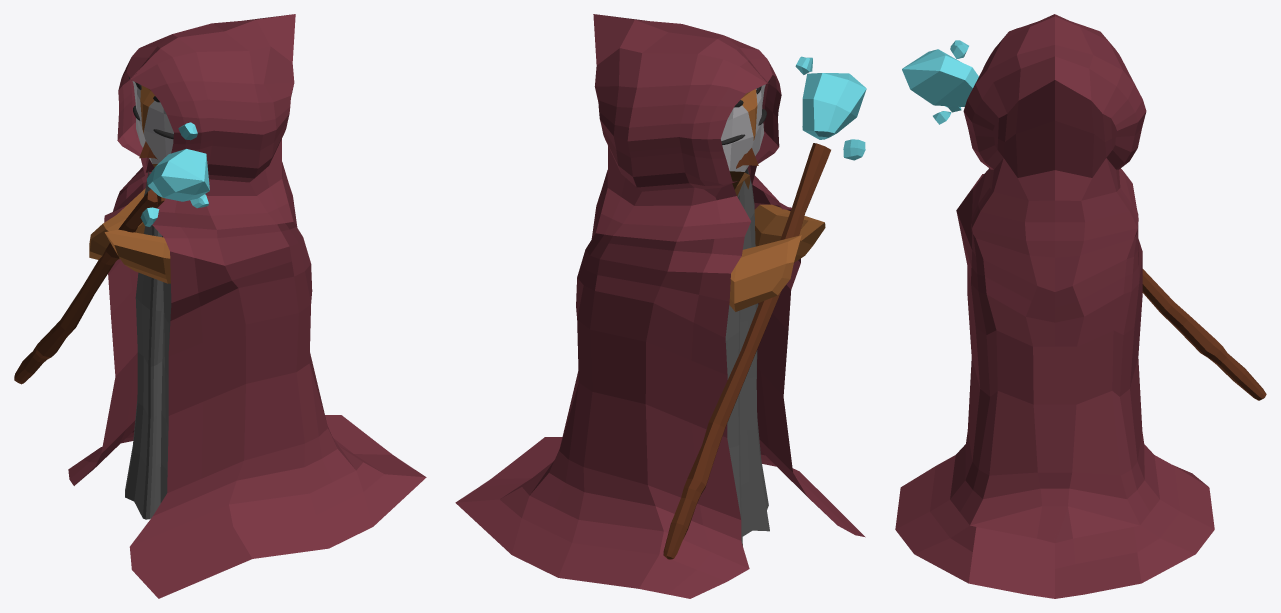
The model's file is War mage 2.fbx.
3 views of the same model, side by side, from view 1: azimuth 30°, elevation 25°; view 2: azimuth 150°, elevation 25°; view 3: azimuth 270°, elevation 25° (orthographic). The views are drawn at different scales.
Visible parts, largest first — view 1: umhang, mantel, stick, main stone, hand.001, Head, hand; view 2: umhang, stick, mantel, hand, main stone, Head, hand.001; view 3: umhang, main stone, stick.
Boxes of the visible parts, bbox=[...] form: umhang: bbox=[68, 14, 426, 598]; mantel: bbox=[125, 171, 171, 519]; stick: bbox=[14, 189, 164, 384]; main stone: bbox=[146, 149, 209, 201]; hand.001: bbox=[104, 229, 170, 283]; Head: bbox=[132, 81, 173, 167]; hand: bbox=[89, 188, 145, 259]; umhang: bbox=[455, 14, 865, 598]; stick: bbox=[663, 143, 830, 559]; mantel: bbox=[725, 168, 769, 545]; hand: bbox=[729, 235, 801, 311]; main stone: bbox=[802, 73, 866, 139]; Head: bbox=[721, 84, 765, 189]; hand.001: bbox=[754, 204, 825, 262]; umhang: bbox=[895, 14, 1214, 598]; main stone: bbox=[902, 49, 978, 106]; stick: bbox=[1142, 269, 1266, 400].
Bounding box in the file's own units: 1993 × 3124 × 2085.
